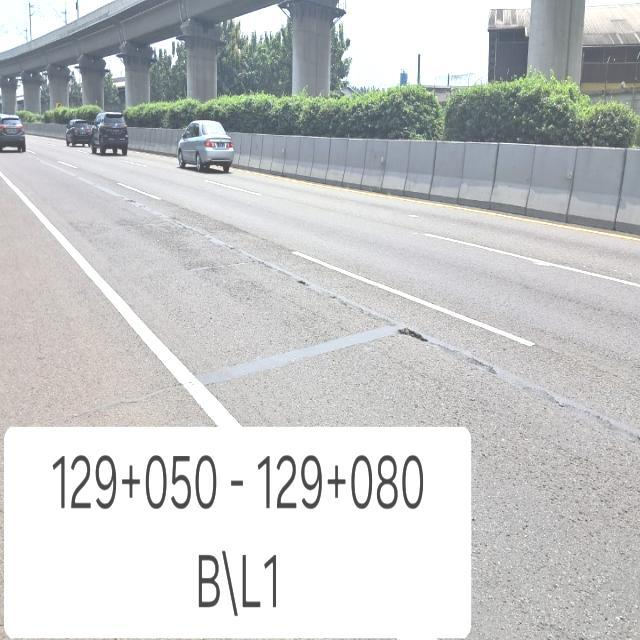Buraco: (396, 326, 430, 344)
